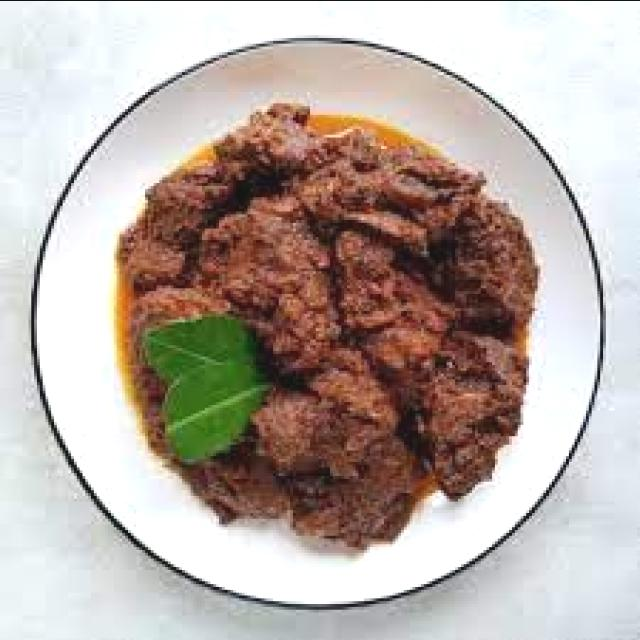rendang: (102, 97, 546, 558)
